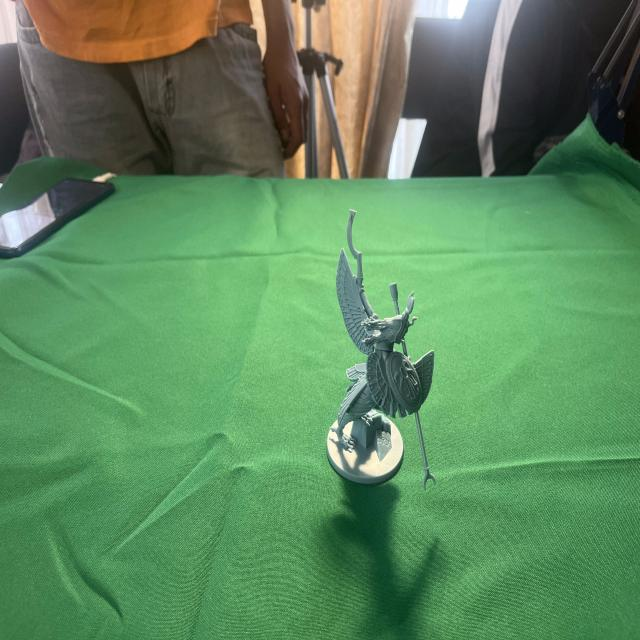isis: (318, 208, 452, 506)
